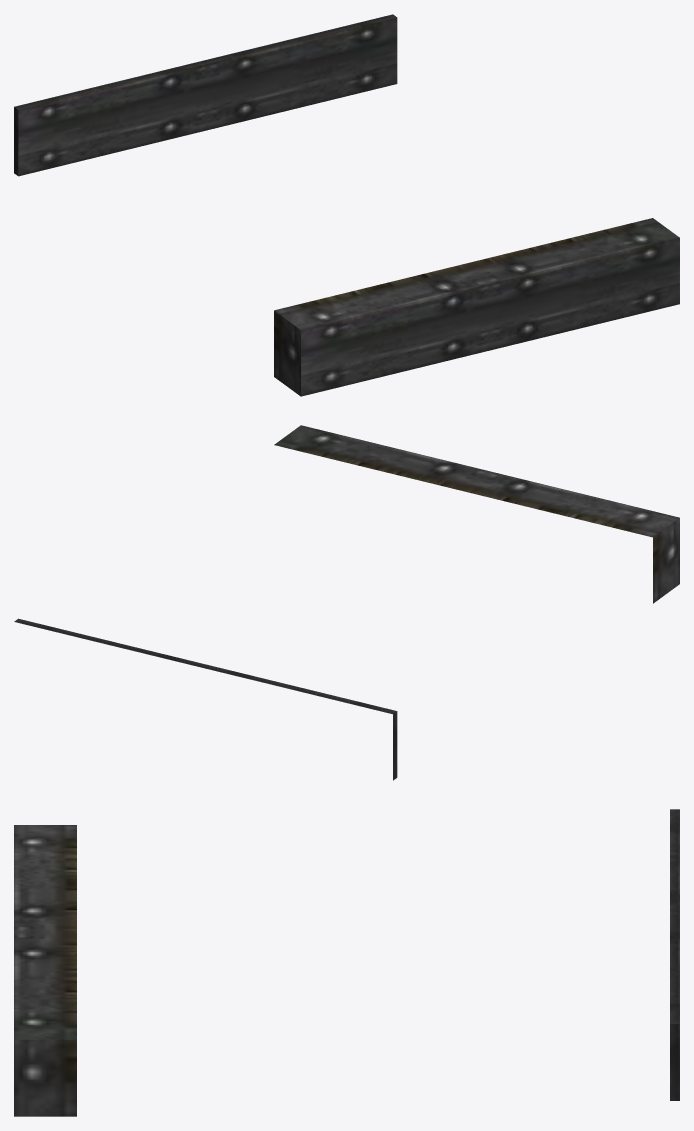
3 views of the same model, one above another, from view 1: azimuth 30°, elevation 25°; view 2: azimuth 150°, elevation 25°; view 3: azimuth 270°, elevation 25° (orthographic). The views are drawn at different scales.
Parts seen in each view (by area): view 1: model_Object80; view 2: model_Object80; view 3: model_Object80.
Boxes of the visible parts, left/top/right/bottom form: model_Object80: left=14, top=14, right=679, bottom=396; model_Object80: left=14, top=425, right=679, bottom=780; model_Object80: left=14, top=809, right=679, bottom=1116.
Bounding box in the file's own units: 2.02 × 0.4066 × 2.65.
Materials: 1 (1 with a texture image).
